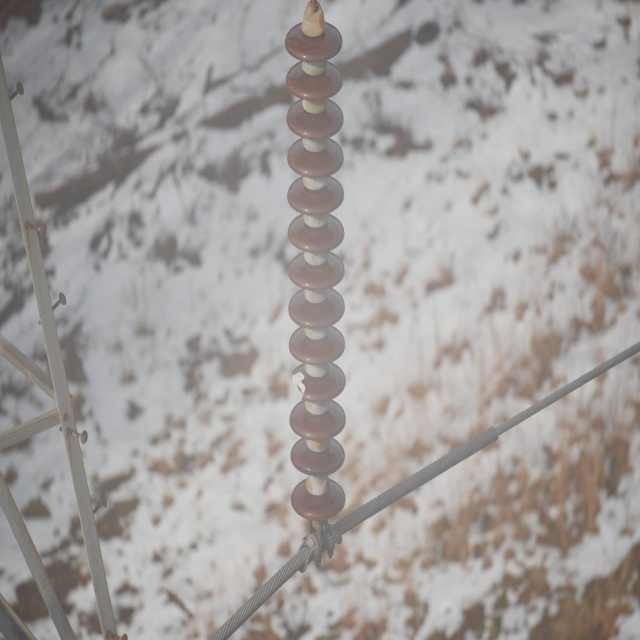broken: (293, 364, 306, 408)
insulator: (285, 22, 346, 519)
